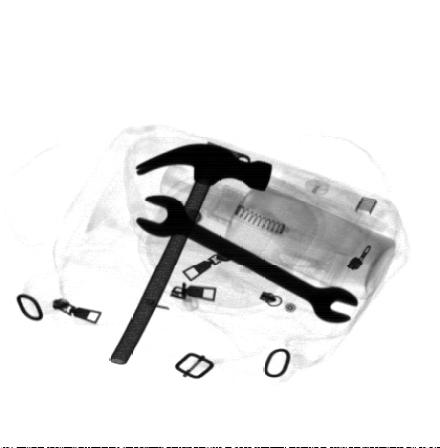Hammer: (108, 142, 273, 366)
Wrench: (136, 194, 359, 323)
